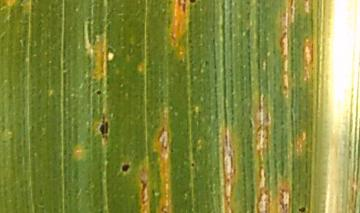tarspot: (99, 119, 111, 139), (120, 162, 132, 173), (298, 206, 309, 213), (95, 89, 103, 96), (190, 161, 196, 167), (188, 1, 197, 4)
